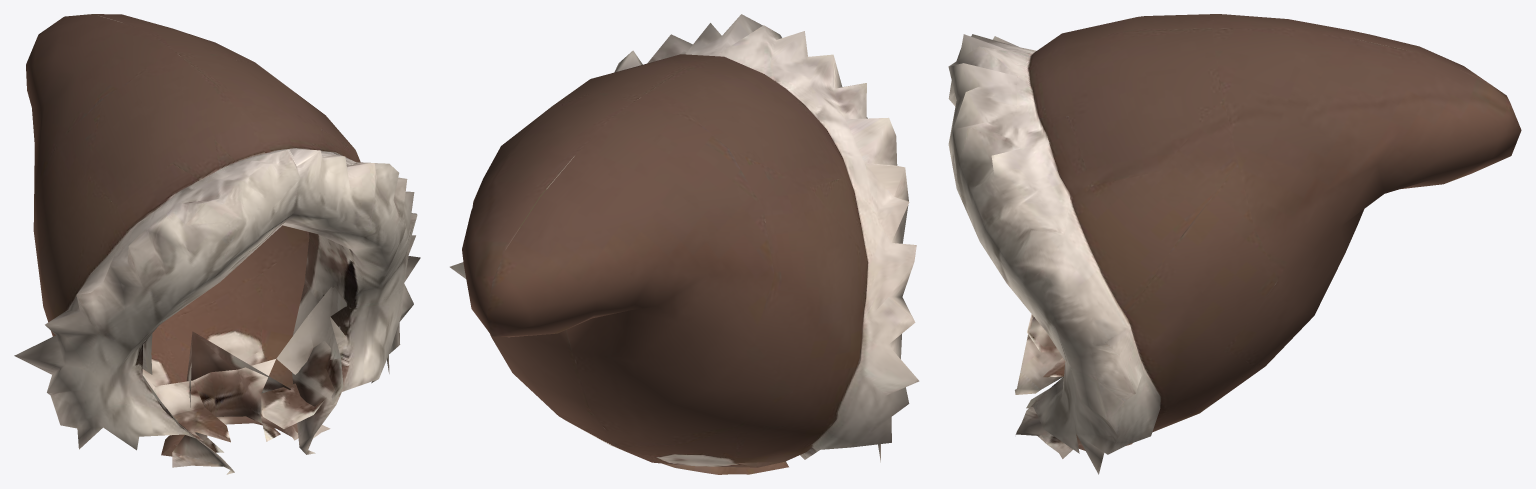
File: wolfpelt_hood.glb
The picture shows the model from 3 angles, left to right: view 1: azimuth 30°, elevation 25°; view 2: azimuth 150°, elevation 25°; view 3: azimuth 270°, elevation 25°; orthographic projection. The views are drawn at different scales.
Visible parts, largest first — view 1: Mesh_0; view 2: Mesh_0; view 3: Mesh_0.
Part boxes in pixels (<box>): Mesh_0: <box>14,14,420,474</box>; Mesh_0: <box>450,14,919,474</box>; Mesh_0: <box>948,14,1521,474</box>.
Bounding box in the file's own units: 0.4561 × 0.3659 × 0.4917.
1 material, 1 textured.
